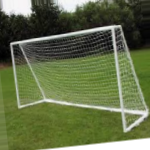goals: (9, 22, 150, 134)
